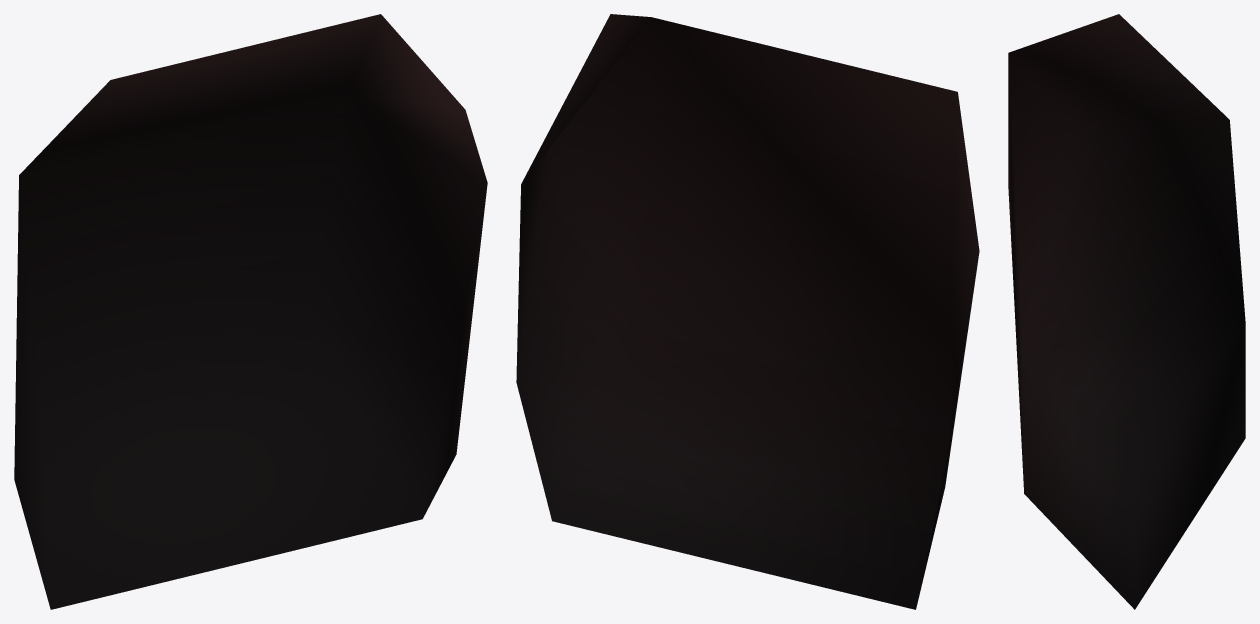
Rendered from model_outerbox.glb.
3 views of the same model, side by side, from view 1: azimuth 30°, elevation 25°; view 2: azimuth 150°, elevation 25°; view 3: azimuth 270°, elevation 25° (orthographic). The views are drawn at different scales.
Parts seen in each view (by area): view 1: A:\.Yandex.YandexDisk.SK SHARED FILES.Game models.1 Exported; view 2: A:\.Yandex.YandexDisk.SK SHARED FILES.Game models.1 Exported; view 3: A:\.Yandex.YandexDisk.SK SHARED FILES.Game models.1 Exported.
Part boxes in pixels (x1,y1,x2,y2): A:\.Yandex.YandexDisk.SK SHARED FILES.Game models.1 Exported: [14, 14, 487, 609]; A:\.Yandex.YandexDisk.SK SHARED FILES.Game models.1 Exported: [516, 14, 979, 609]; A:\.Yandex.YandexDisk.SK SHARED FILES.Game models.1 Exported: [1008, 14, 1245, 609].
Size of the model in its own units: 560 by 640 by 300.
Materials: 1 (1 with a texture image).
